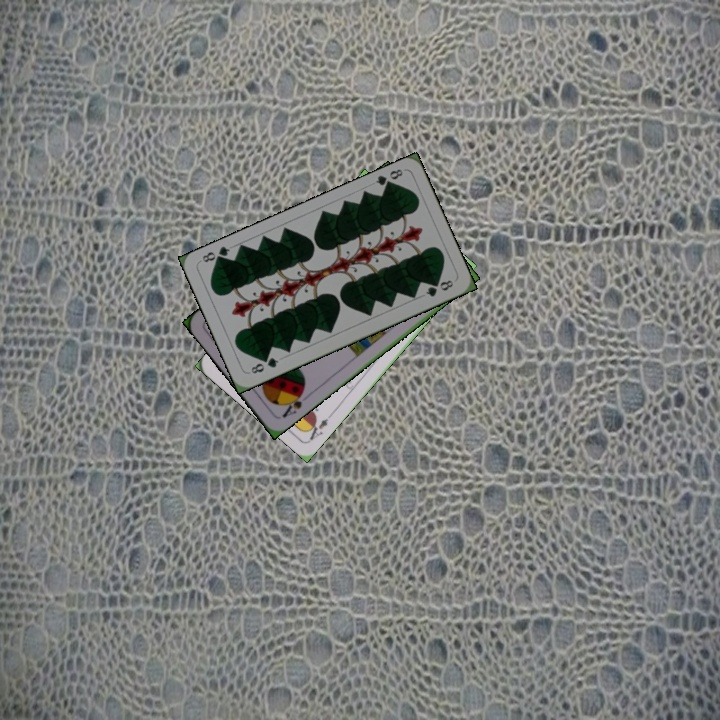EA: (302, 415, 331, 444)
G8: (371, 165, 406, 192), (247, 353, 281, 376)
SA: (278, 386, 306, 421)
